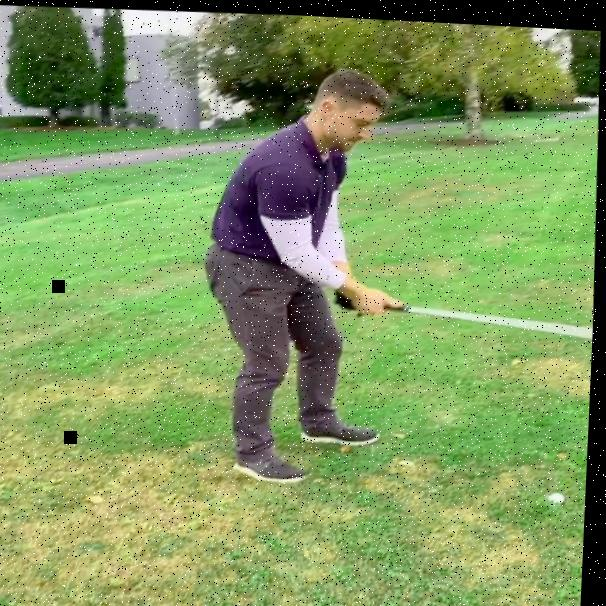GolfBall: (552, 486, 569, 497)
